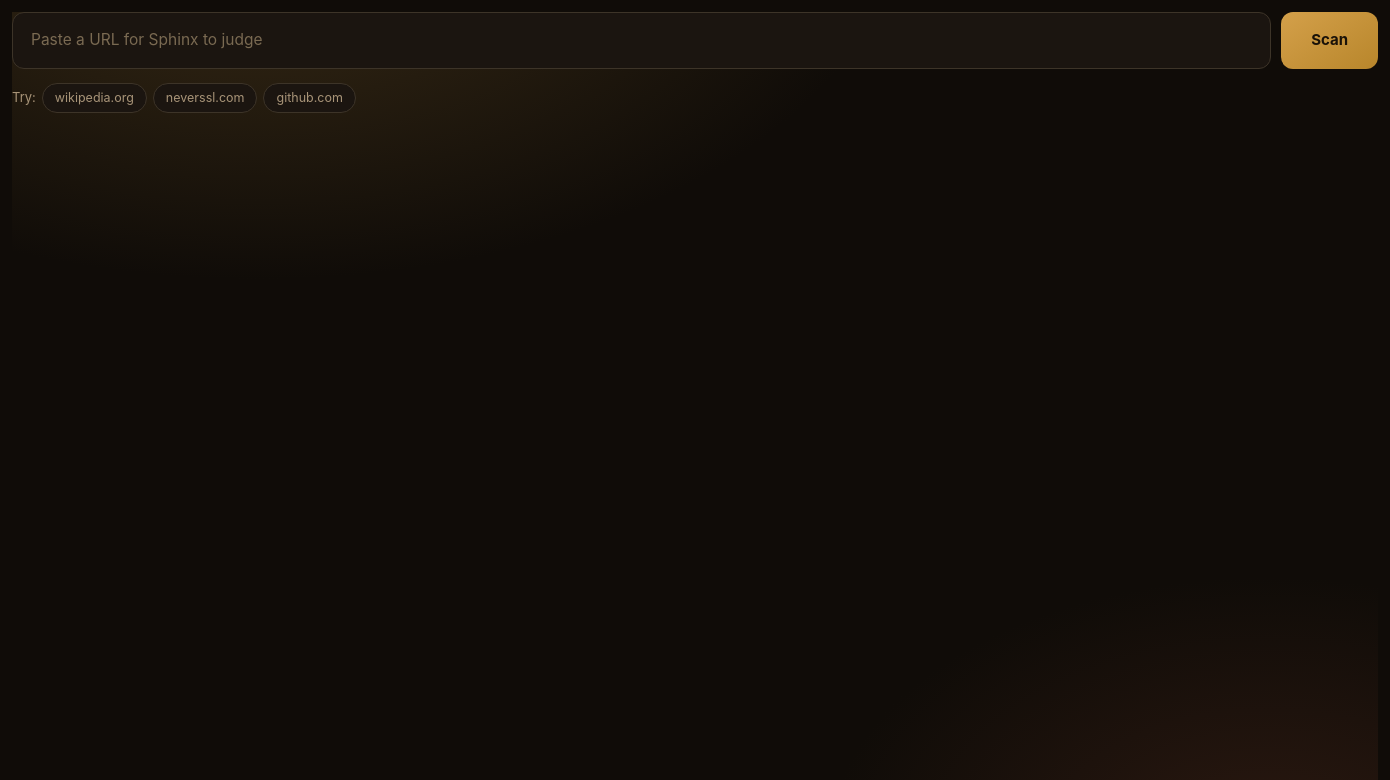
Test: Scanner › shows the API's message when a private target is refused
Type "http://127.0.0.1" into the field named "URL to scan" at (642, 40), box x1=12 y1=12 x2=1271 y2=69
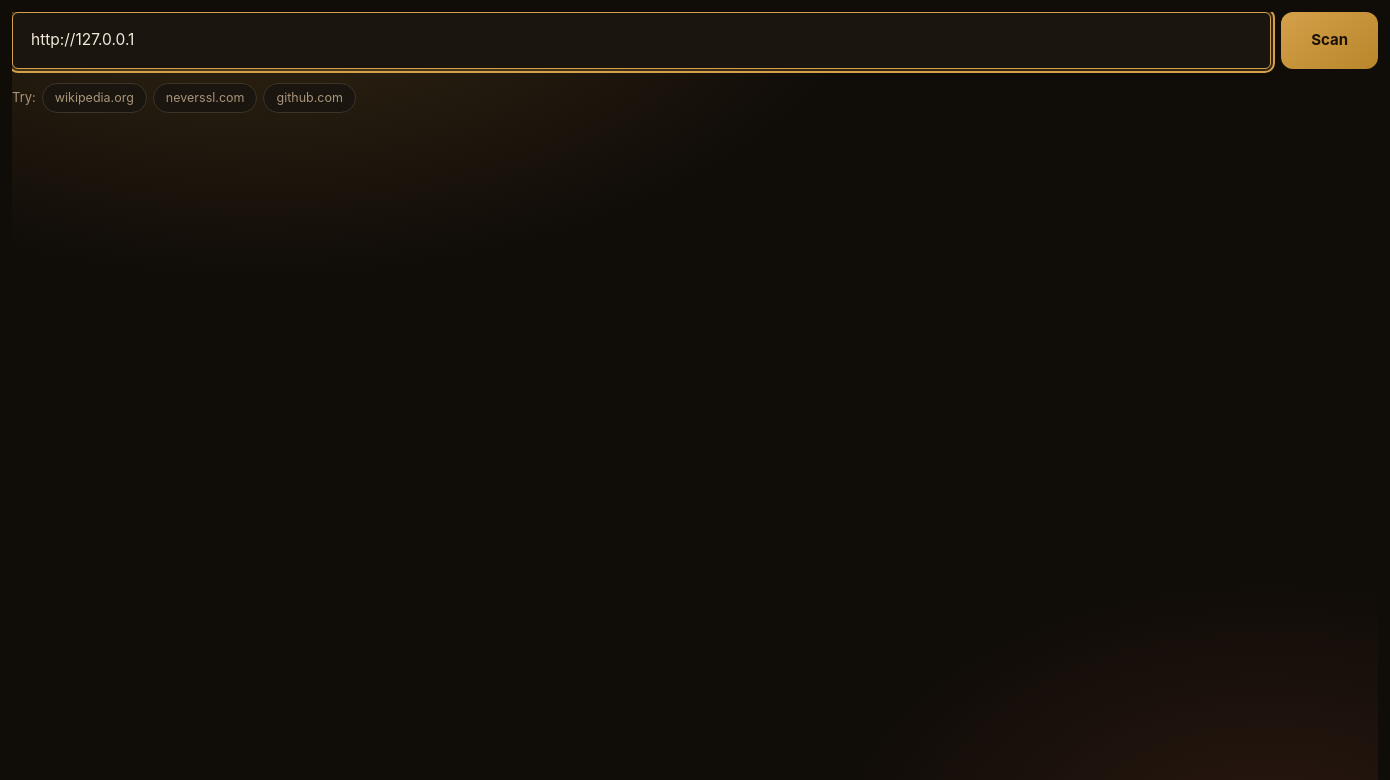
Click the button "Scan" at (1330, 40), box x1=1281 y1=12 x2=1378 y2=69
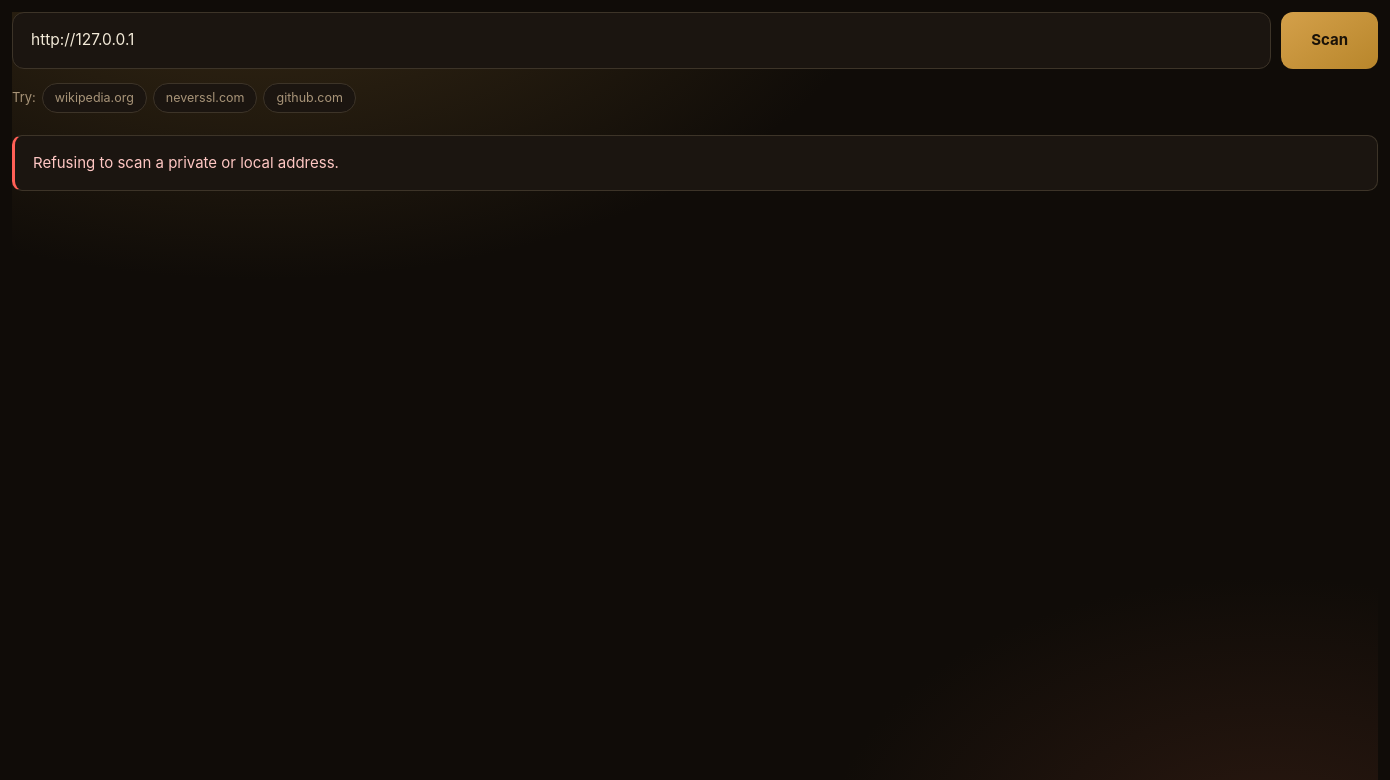
Result: the text "Refusing to scan a private or local address." is shown at x1=12 y1=135 x2=1378 y2=191
